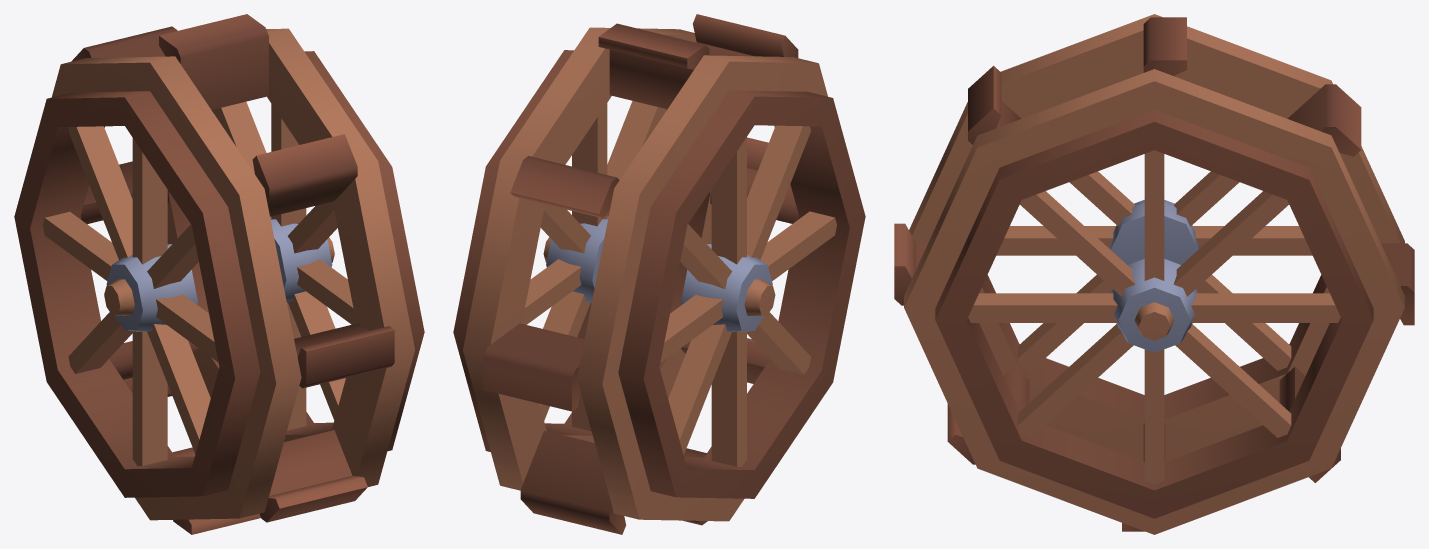
File: T_watermill.glb
The picture shows the model from 3 angles, left to right: view 1: azimuth 30°, elevation 25°; view 2: azimuth 150°, elevation 25°; view 3: azimuth 270°, elevation 25°; orthographic projection.
Parts seen in each view (by area): view 1: watermill; view 2: watermill; view 3: watermill.
Part boxes in pixels (x1=…): watermill: x1=14, y1=14, x2=424, y2=534; watermill: x1=453, y1=14, x2=865, y2=534; watermill: x1=894, y1=14, x2=1414, y2=534.
Size of the model in its own units: 0.85 by 1.8 by 1.8.
